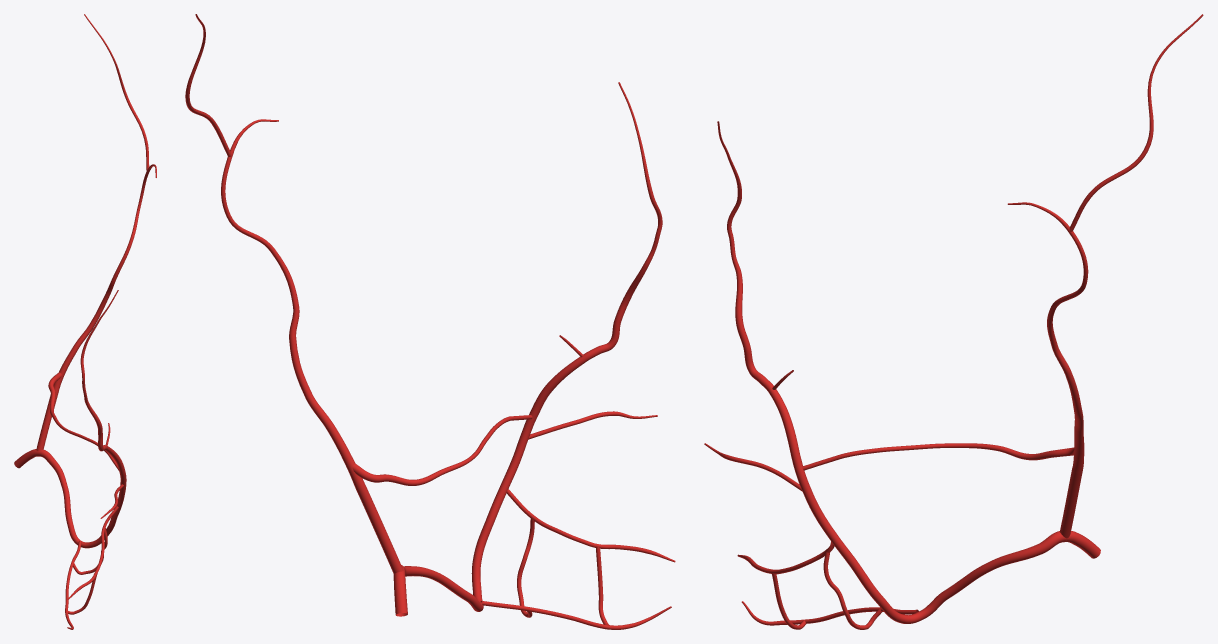
Rendered from circulatorio-common-facial-vein-l.glb.
3 renders of one model, left to right at view 1: azimuth 30°, elevation 25°; view 2: azimuth 150°, elevation 25°; view 3: azimuth 270°, elevation 25°, orthographic. The views are drawn at different scales.
Parts seen in each view (by area): view 1: Superficial temporal veins.l, Facial vein.l, Angular vein.l, Inferior labial veins.l, Maxillary veins.l, Anterior division of retromandibular vein.l, Submental vein.l, Retromandibular vein.l, Common facial vein.l; view 2: Superficial temporal veins.l, Facial vein.l, Angular vein.l, Inferior labial veins.l, Maxillary veins.l, Anterior division of retromandibular vein.l, Submental vein.l, Retromandibular vein.l; view 3: Facial vein.l, Superficial temporal veins.l, Angular vein.l, Maxillary veins.l, Inferior labial veins.l, Anterior division of retromandibular vein.l, Submental vein.l.
Part boxes in pixels (box(x1,y1,x2,y2)): Superficial temporal veins.l: box(73, 14, 156, 350); Facial vein.l: box(37, 449, 126, 548); Angular vein.l: box(80, 290, 119, 460); Inferior labial veins.l: box(67, 506, 118, 614); Maxillary veins.l: box(48, 372, 118, 470); Anterior division of retromandibular vein.l: box(36, 391, 58, 451); Submental vein.l: box(65, 540, 81, 629); Retromandibular vein.l: box(53, 347, 77, 391); Common facial vein.l: box(14, 449, 38, 468); Superficial temporal veins.l: box(185, 14, 334, 430); Facial vein.l: box(401, 383, 553, 611); Angular vein.l: box(548, 82, 662, 388); Inferior labial veins.l: box(506, 489, 675, 625); Maxillary veins.l: box(352, 415, 532, 485); Anterior division of retromandibular vein.l: box(358, 489, 403, 573); Submental vein.l: box(480, 601, 671, 629); Retromandibular vein.l: box(327, 427, 367, 493); Facial vein.l: box(785, 429, 1067, 623); Superficial temporal veins.l: box(1007, 14, 1203, 431); Angular vein.l: box(717, 121, 793, 431); Maxillary veins.l: box(802, 443, 1074, 470); Inferior labial veins.l: box(737, 541, 882, 629); Anterior division of retromandibular vein.l: box(1060, 469, 1082, 538); Submental vein.l: box(741, 601, 918, 625).
Bounding box in the file's own units: 0.0759 × 0.1754 × 0.1093.
